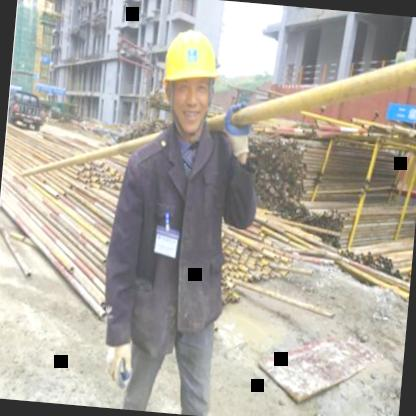helmet: (154, 18, 230, 142)
